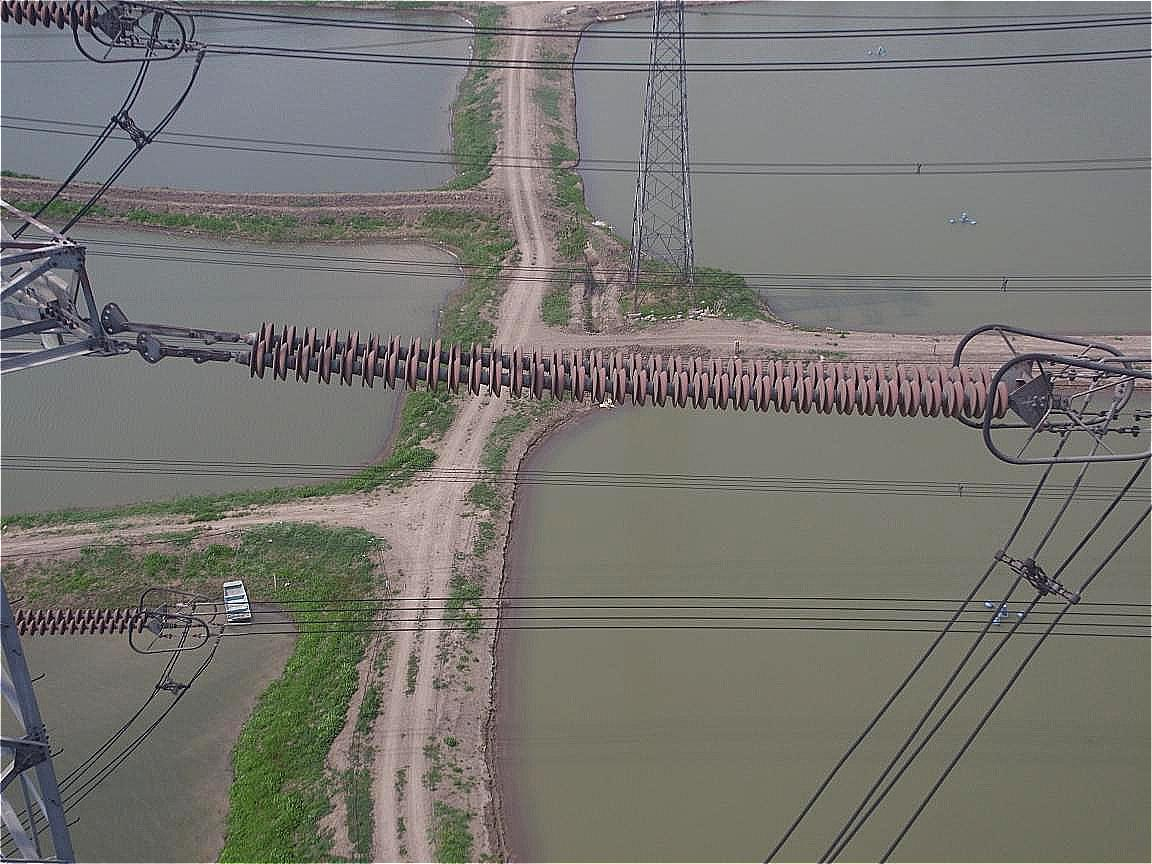insultor2: (215, 313, 1033, 434)
